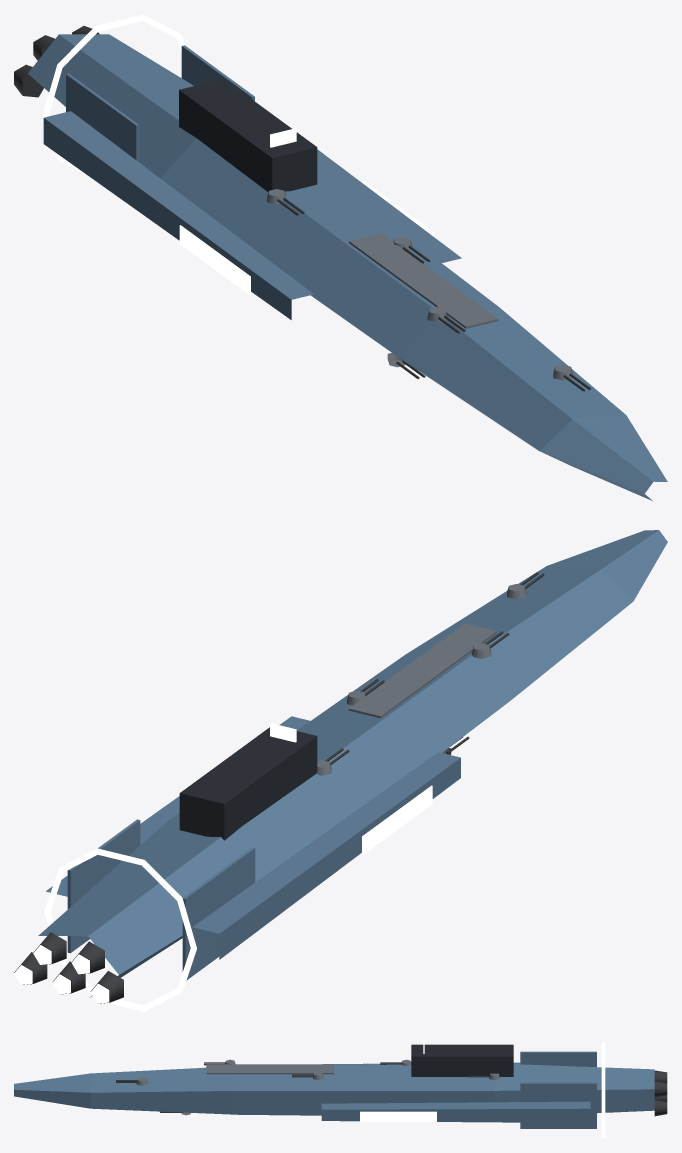
Rendered from space_ship_cruiser_mk6_lod1.glb.
3 renders of one model, top to bottom at view 1: azimuth 30°, elevation 25°; view 2: azimuth 150°, elevation 25°; view 3: azimuth 270°, elevation 25°, orthographic. The views are drawn at different scales.
Visible parts, largest first — view 1: body, hangar_r; view 2: body, hangar_r, engine_3, engine_1, engine_0, engine_4, engine_2; view 3: body, hangar_l, engine_3, engine_4.
Boxes of the visible parts, x1,y1,x2,y2 form: body: (28, 14, 667, 500); hangar_r: (179, 225, 250, 295); body: (38, 530, 667, 1011); hangar_r: (362, 785, 432, 854); engine_3: (33, 932, 66, 964); engine_1: (71, 941, 104, 974); engine_0: (90, 971, 123, 1003); engine_4: (14, 952, 47, 984); engine_2: (52, 961, 85, 994); body: (14, 1040, 654, 1138); hangar_l: (360, 1111, 436, 1122); engine_3: (654, 1081, 667, 1097); engine_4: (654, 1099, 667, 1116).
Bounding box in the file's own units: 18.56 × 15.59 × 105.
